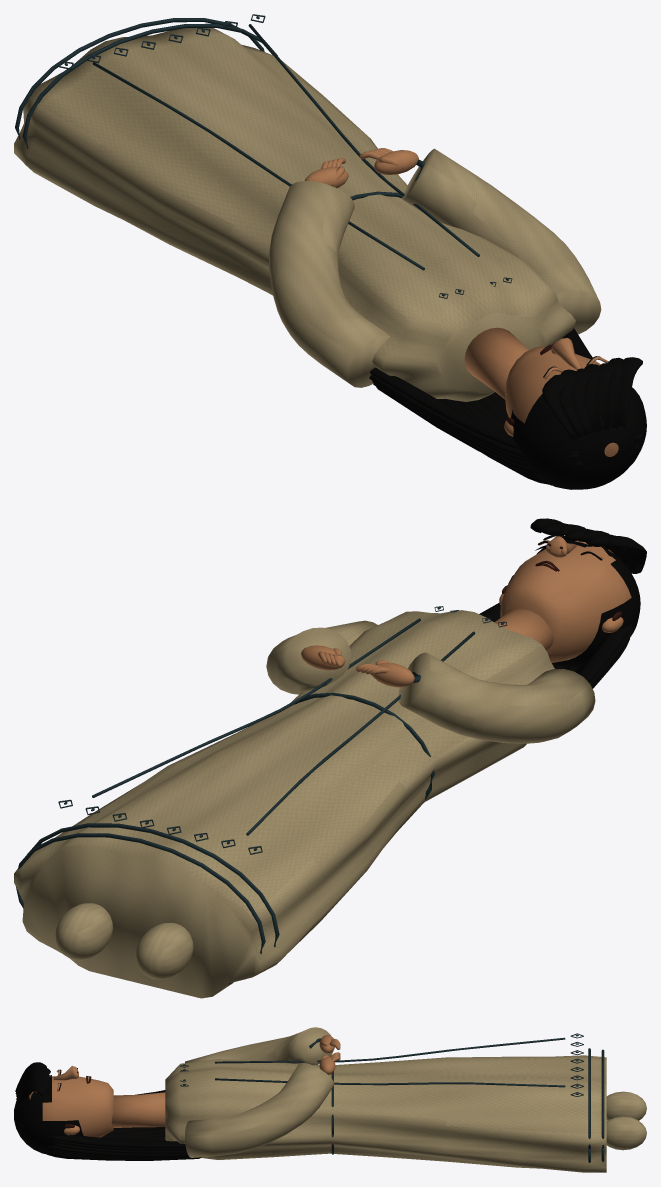
The model's file is mono_sleep_lod1.glb.
The picture shows the model from 3 angles, top to bottom: view 1: azimuth 30°, elevation 25°; view 2: azimuth 150°, elevation 25°; view 3: azimuth 270°, elevation 25°; orthographic projection. The views are drawn at different scales.
Visible parts, largest first — view 1: Mono_Sleep_Detailed.001; view 2: Mono_Sleep_Detailed.001; view 3: Mono_Sleep_Detailed.001.
Boxes of the visible parts, x1,y1,x2,y2 form: Mono_Sleep_Detailed.001: (14,14,646,489); Mono_Sleep_Detailed.001: (14,518,646,998); Mono_Sleep_Detailed.001: (14,1027,646,1172).
Size of the model in its own units: 0.6157 by 0.3576 by 1.92.
1 material, 1 textured.
